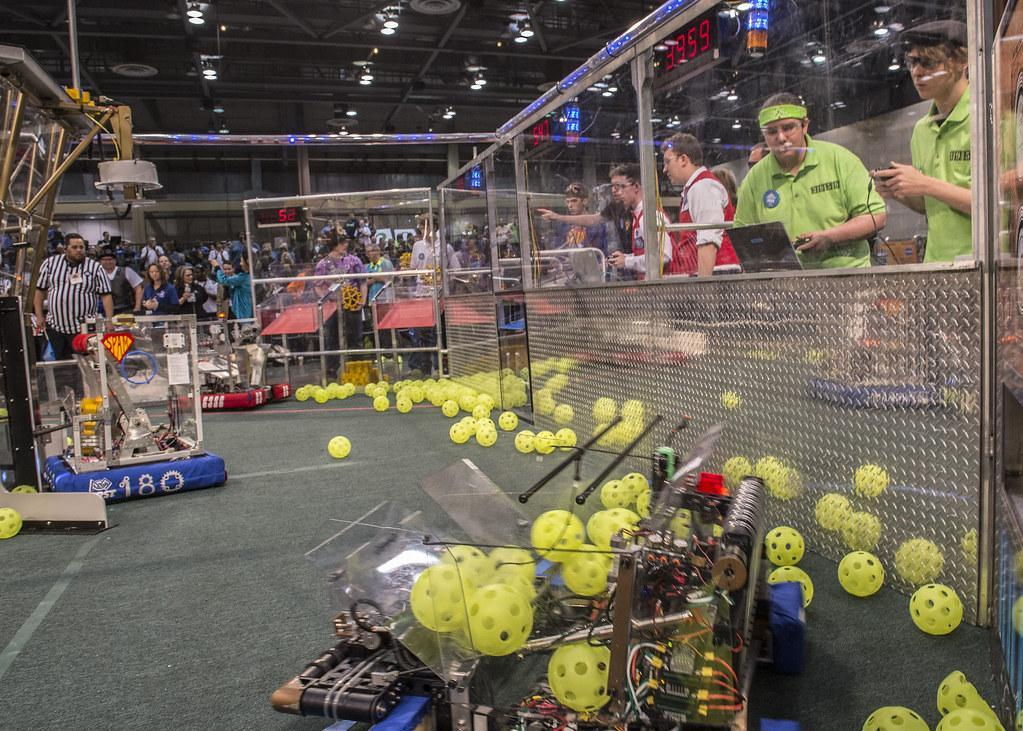robot: (271, 417, 837, 731), (41, 308, 232, 508), (182, 318, 297, 413)
